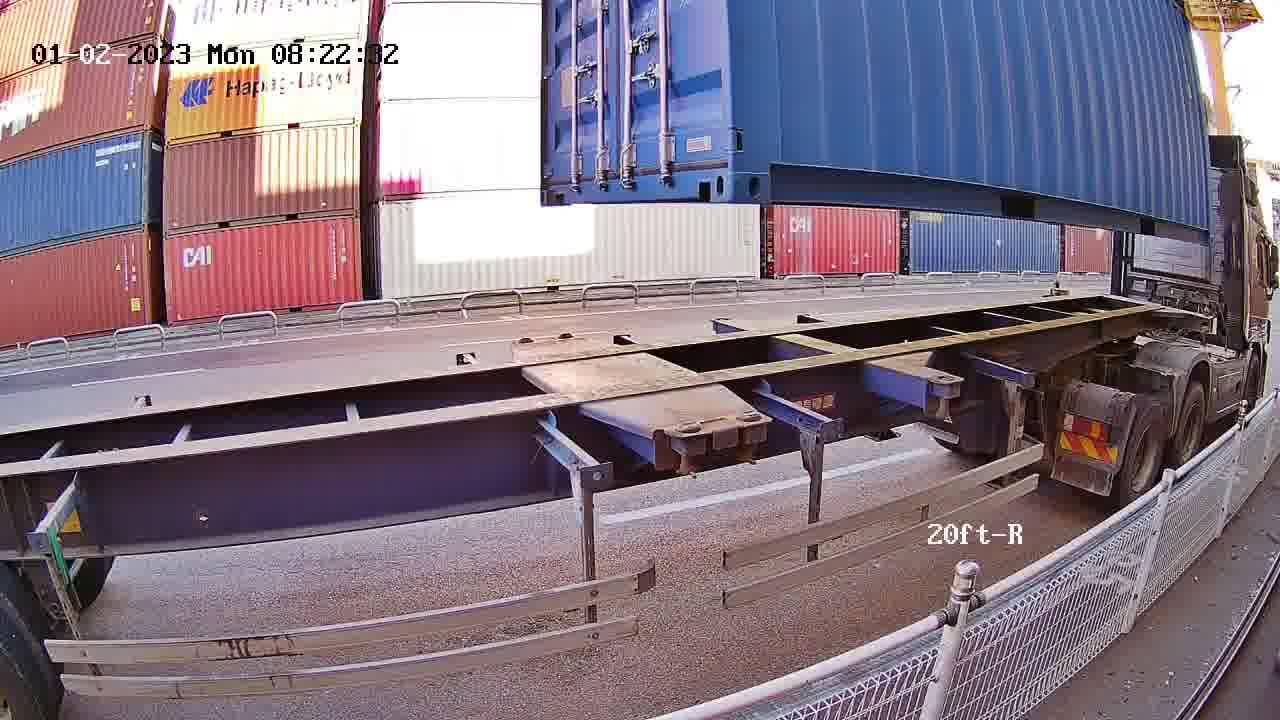Chassis: (549, 332, 774, 432), (515, 338, 709, 440)
Cone: (664, 419, 705, 481), (732, 406, 769, 467)
Hole_L: (732, 136, 809, 204), (539, 166, 570, 206)
Hole_R: (681, 137, 733, 204)
Tire: (1120, 401, 1168, 507), (1172, 385, 1207, 475)
